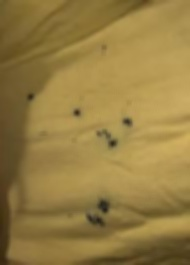ink: (96, 131, 117, 149), (86, 216, 103, 227), (99, 199, 111, 212), (124, 118, 132, 126), (28, 92, 35, 100), (74, 109, 80, 116)
